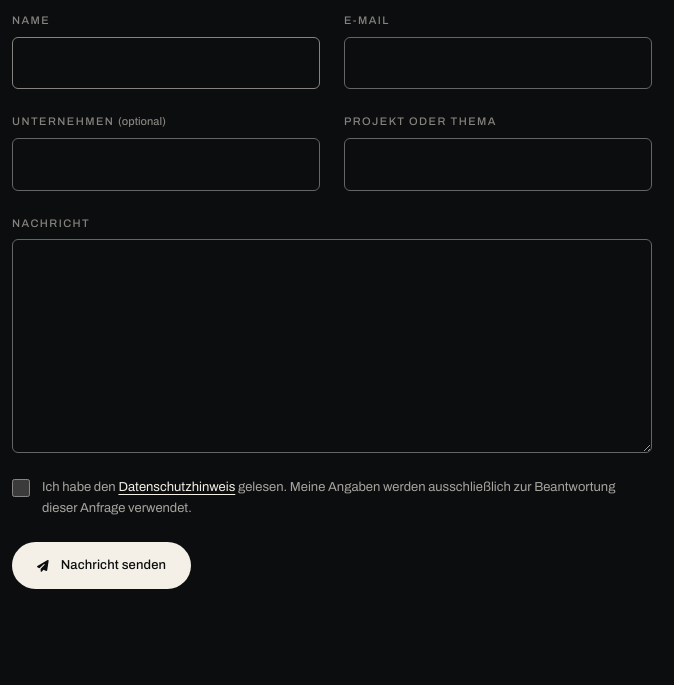
Kontaktformular › meldet Erfolg nur, wenn der Server ihn bestätigt
Type "Anna Beispiel" into the field labelled "Name" at (166, 63), box x1=12 y1=36 x2=320 y2=89
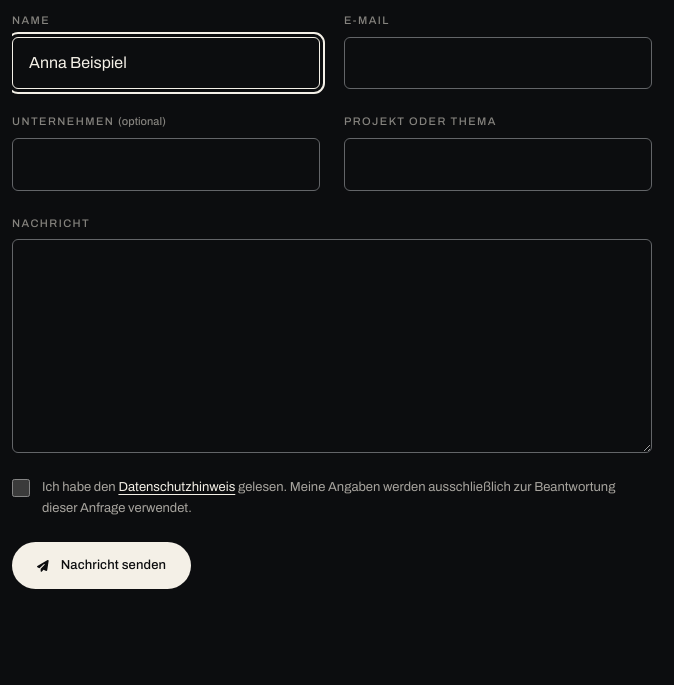
Type "anna@example.com" into the field labelled "E-Mail" at (498, 63), box x1=344 y1=36 x2=652 y2=89
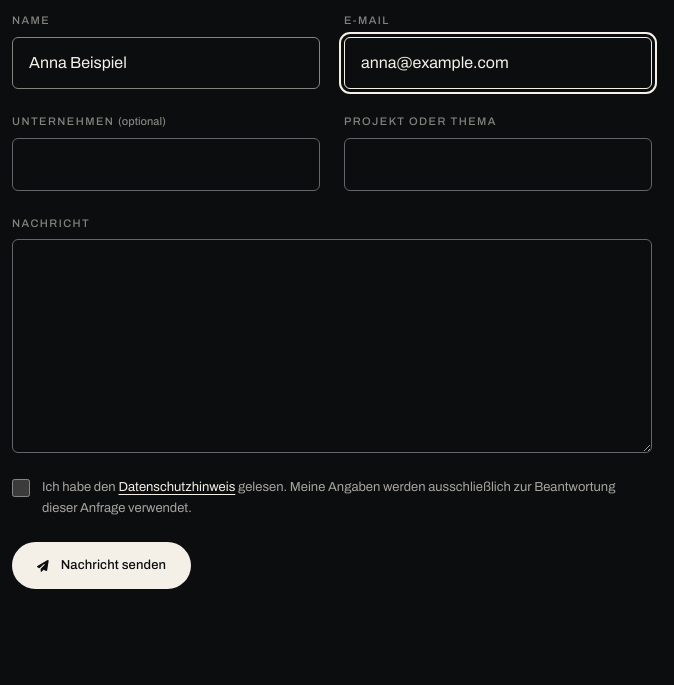
Type "Individuelle Webanwendung" into the field labelled "Projekt oder Thema" at (498, 164), box x1=344 y1=138 x2=652 y2=191
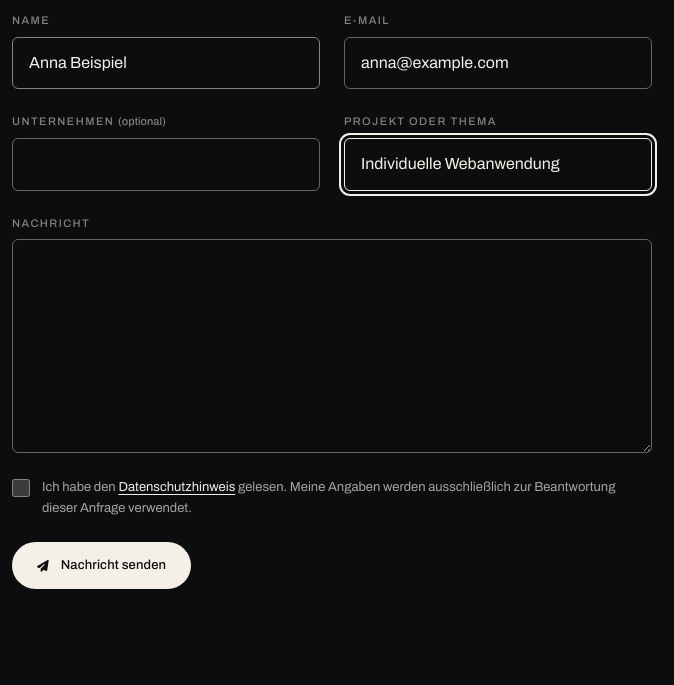
Type "Wir suchen Verstärkung im Produktteam und würden uns gern austauschen." into the text box labelled "Nachricht" at (332, 346), box x1=12 y1=239 x2=652 y2=453
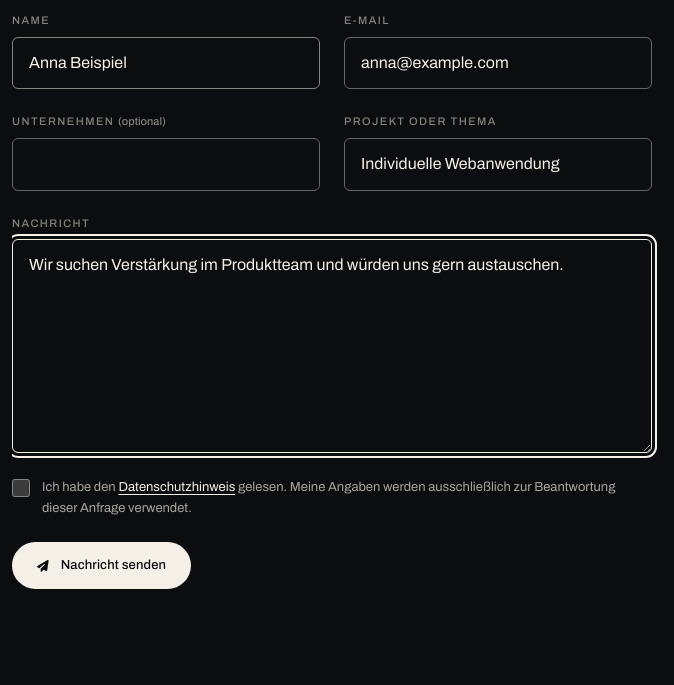
Click the checkbox labelled "Datenschutzhinweis" at (21, 488), box x1=12 y1=479 x2=30 y2=497
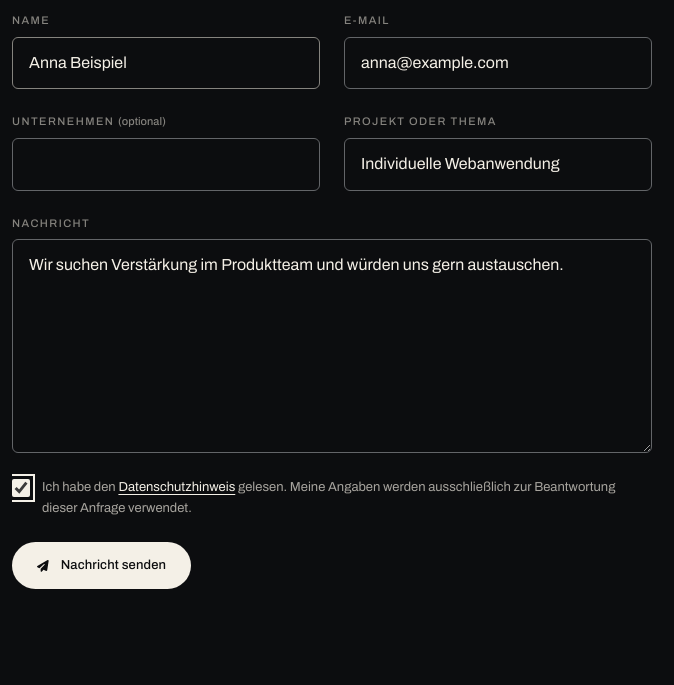
Click the button "Nachricht senden" at (102, 566), box x1=12 y1=542 x2=191 y2=590
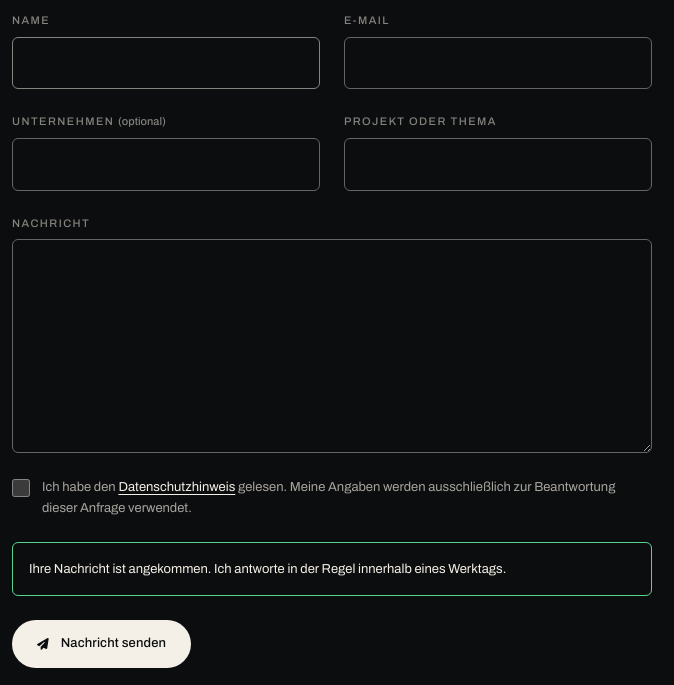
expect the message shows "ist angekommen": met, box x1=29 y1=562 x2=506 y2=576
